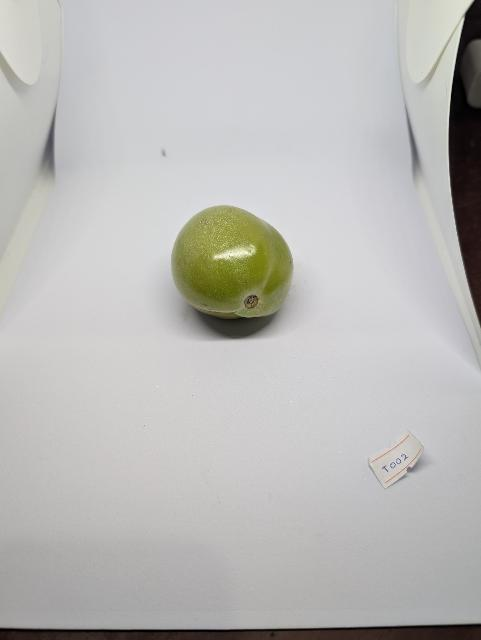green: (168, 203, 296, 323)
